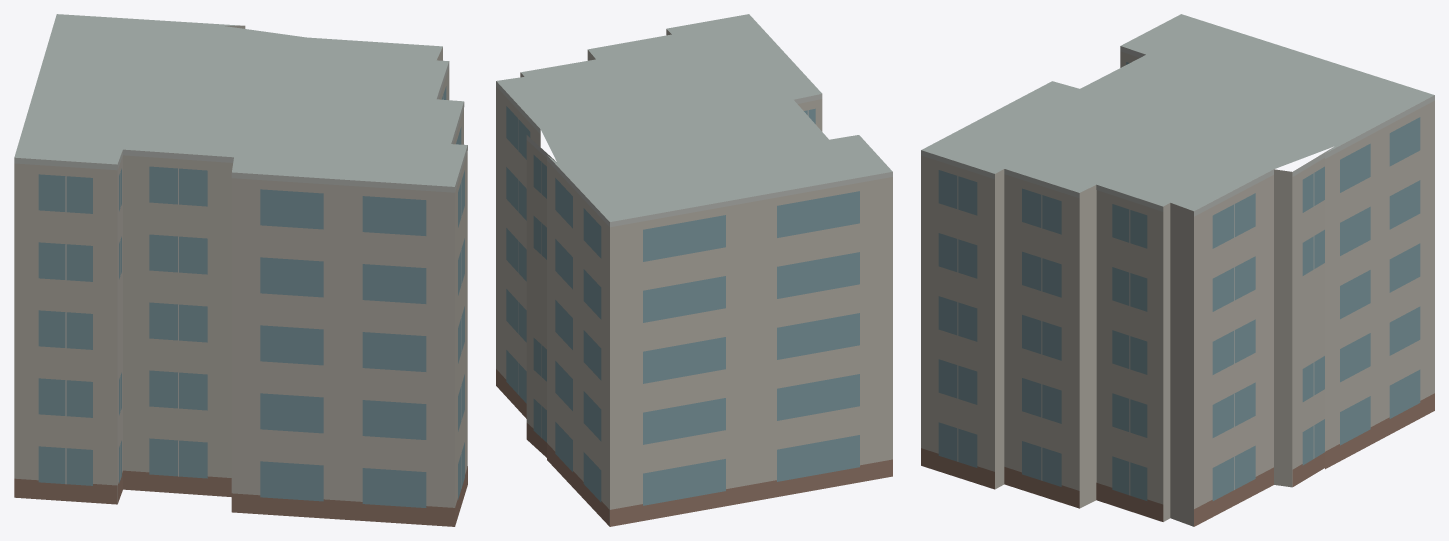
Rendered from survey-upis-33035900.glb.
3 views of the same model, side by side, from view 1: azimuth 30°, elevation 25°; view 2: azimuth 150°, elevation 25°; view 3: azimuth 270°, elevation 25° (orthographic). The views are drawn at different scales.
Visible parts, largest first — view 1: survey-upis-33035900.tmp; view 2: survey-upis-33035900.tmp; view 3: survey-upis-33035900.tmp.
Part boxes in pixels (box(x1,y1,x2,y2)): survey-upis-33035900.tmp: box(14, 14, 467, 526); survey-upis-33035900.tmp: box(496, 14, 892, 526); survey-upis-33035900.tmp: box(921, 14, 1434, 526).
Bounding box in the file's own units: 19.32 × 14.4 × 21.26.
